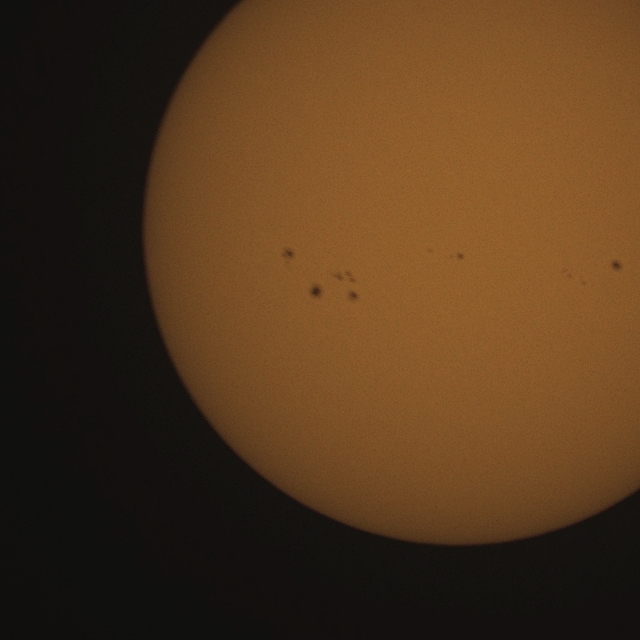sunspot: (309, 284, 323, 299), (610, 259, 623, 273), (282, 248, 294, 261), (455, 253, 465, 261)
